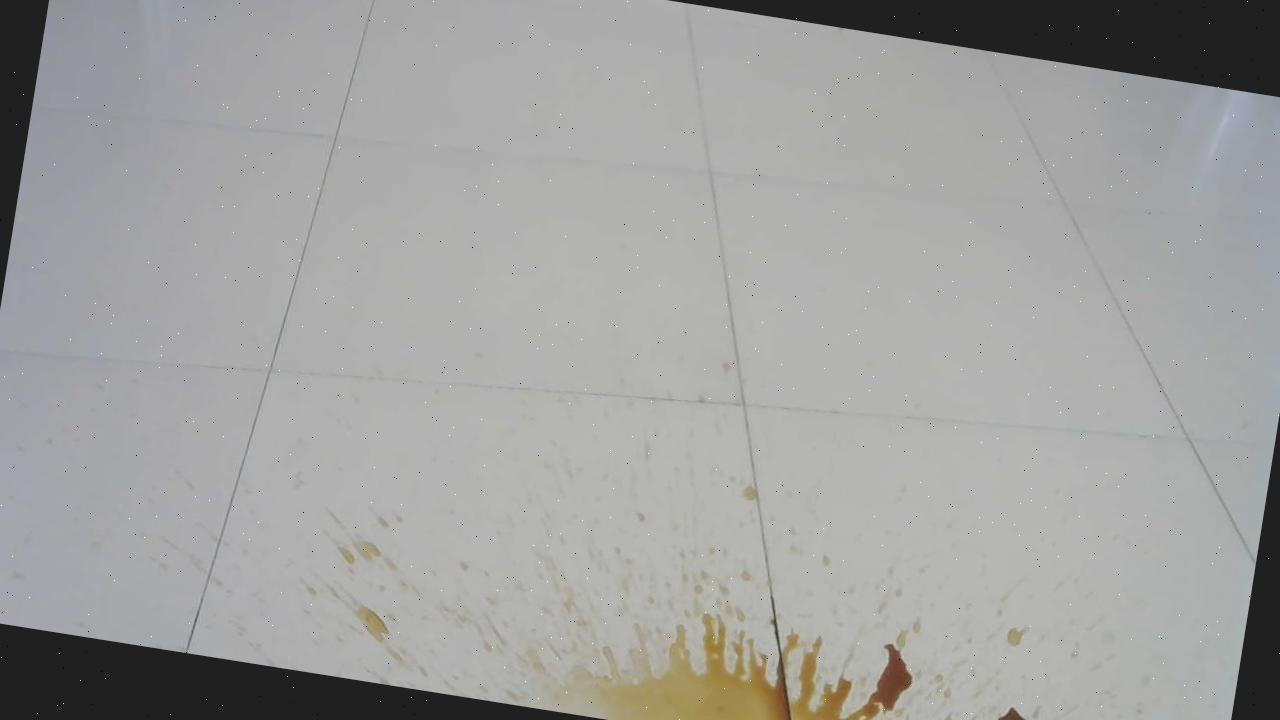dirty_floor: (307, 516, 1089, 720)
